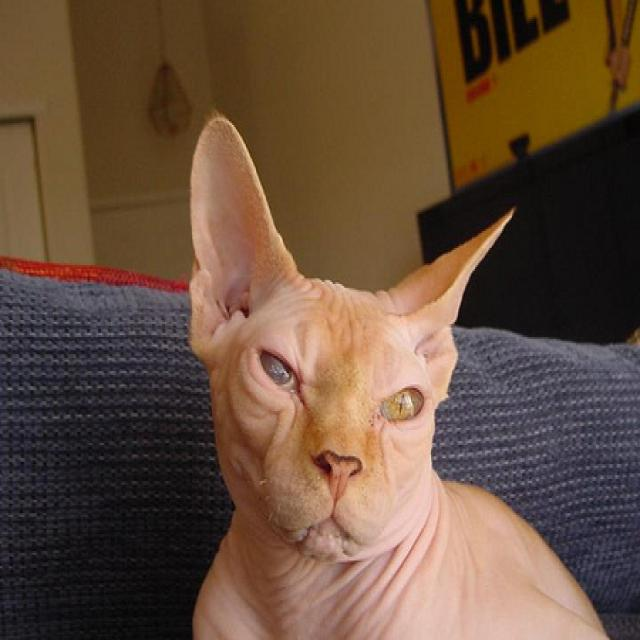Sphynx: (182, 110, 640, 640)
